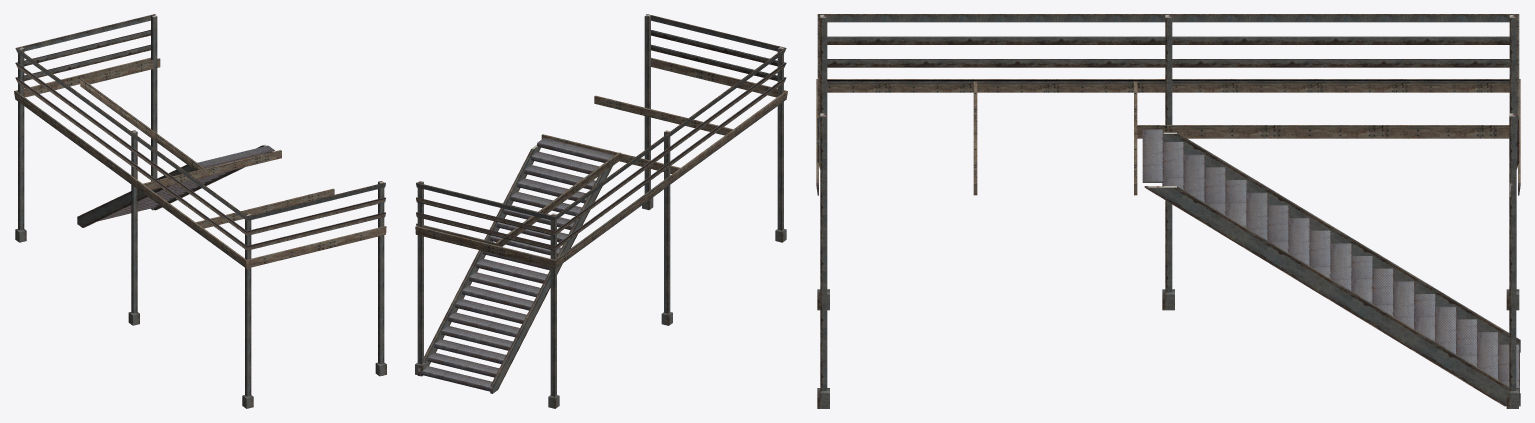
Rendered from containerbuildingstaircase_metaltrim_dm_0_lev1.glb.
3 renders of one model, left to right at view 1: azimuth 30°, elevation 25°; view 2: azimuth 150°, elevation 25°; view 3: azimuth 270°, elevation 25°, orthographic. The views are drawn at different scales.
Parts seen in each view (by area): view 1: containerbuildingstaircase_metaltrim_dm_0_lev1; view 2: containerbuildingstaircase_metaltrim_dm_0_lev1; view 3: containerbuildingstaircase_metaltrim_dm_0_lev1.
Boxes of the visible parts, left/top/right/bottom form: containerbuildingstaircase_metaltrim_dm_0_lev1: left=14, top=14, right=386, bottom=408; containerbuildingstaircase_metaltrim_dm_0_lev1: left=415, top=14, right=787, bottom=408; containerbuildingstaircase_metaltrim_dm_0_lev1: left=816, top=14, right=1520, bottom=408.
Size of the model in its own units: 1.91 by 2.46 by 5.4.
1 material, 1 textured.
